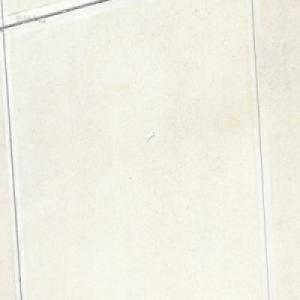Wrench: (145, 132, 153, 142)
